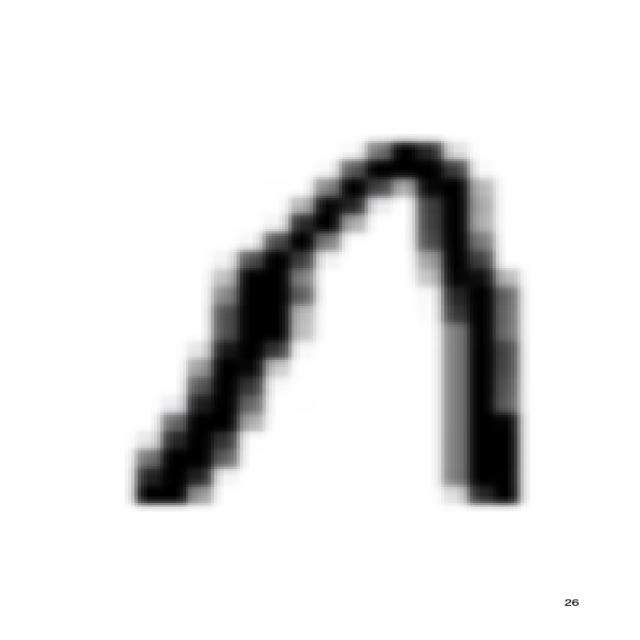8 -eight-: (78, 114, 562, 526)
